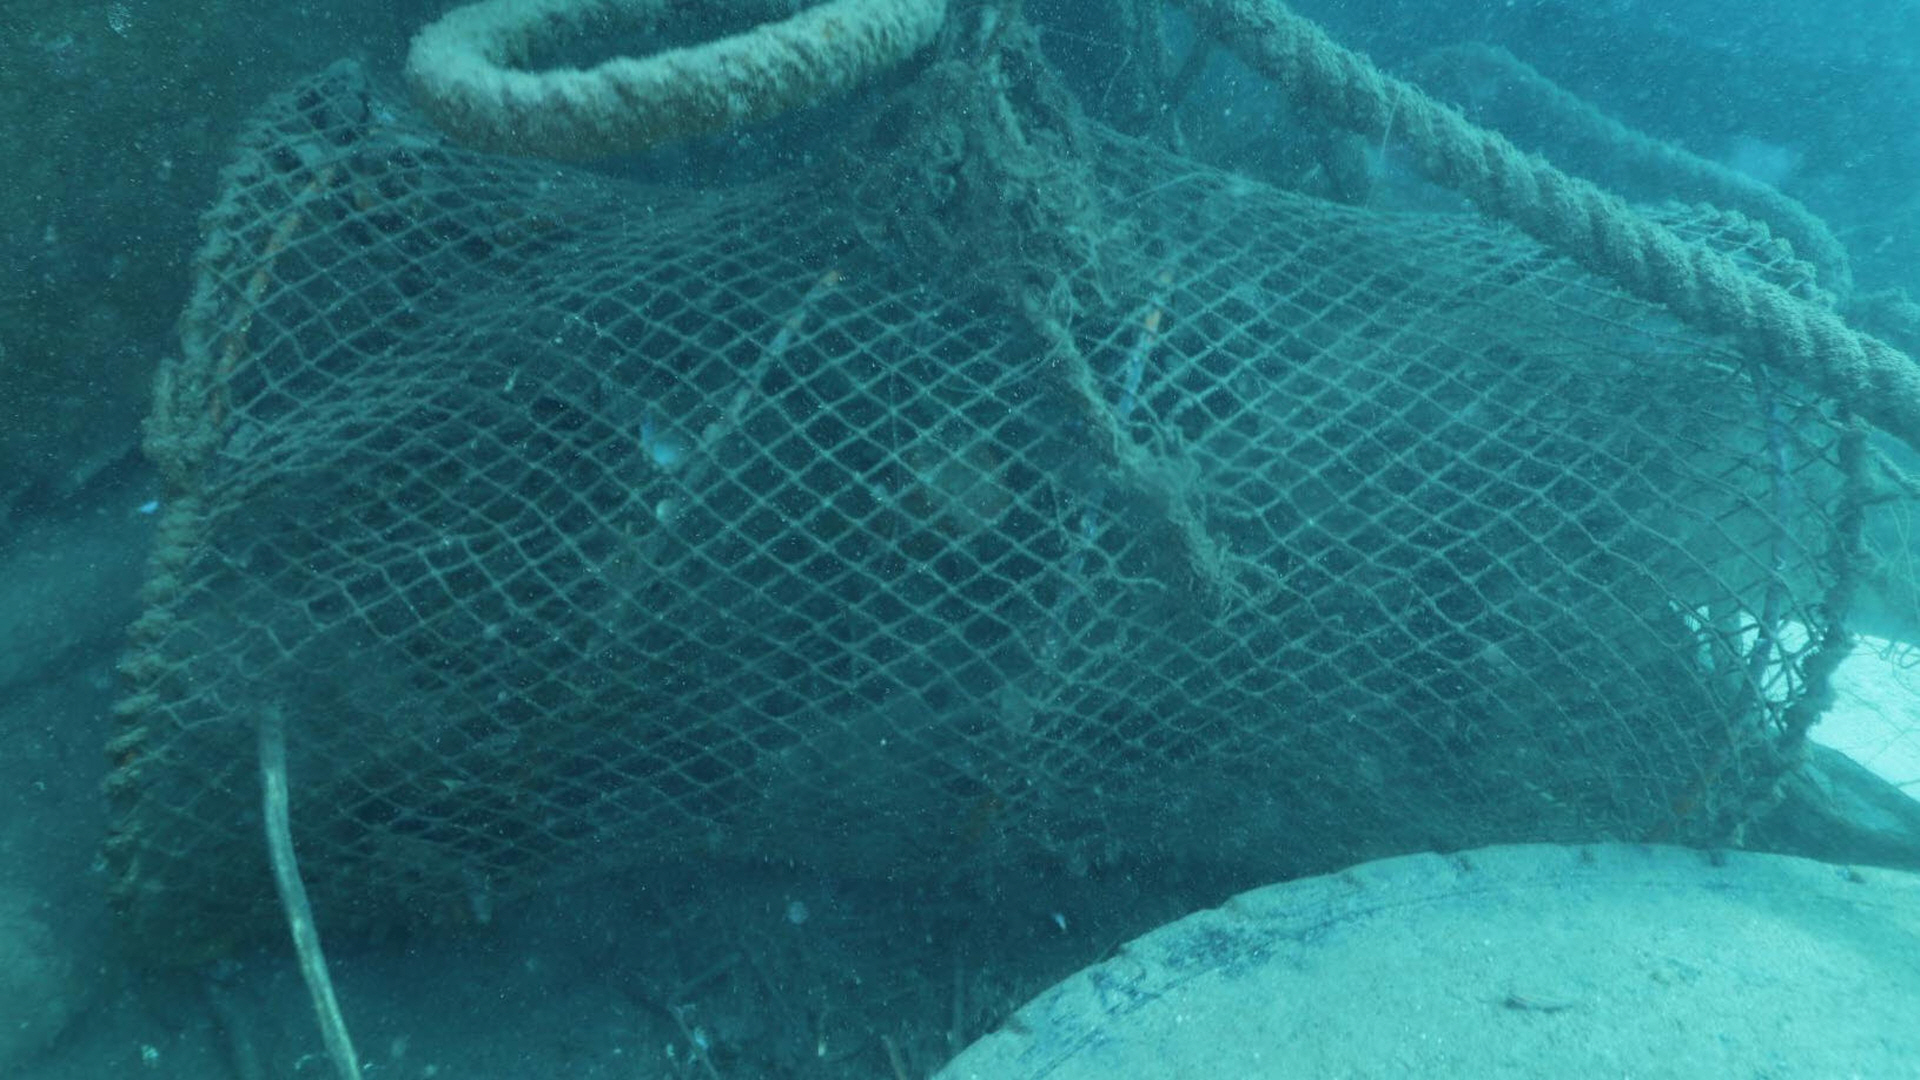rope: (1182, 3, 1920, 446), (1402, 40, 1855, 328), (404, 0, 944, 145)
spring fish trap: (88, 61, 1865, 924)
